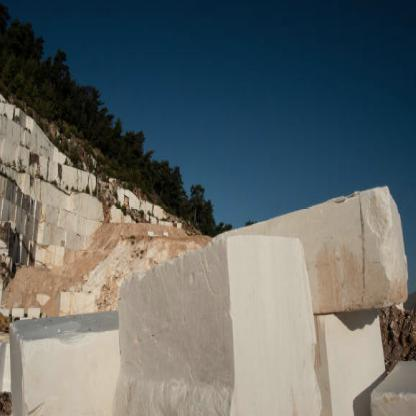Sedimentary_Limestone: (108, 249, 325, 415), (0, 288, 116, 415), (312, 183, 410, 304)
